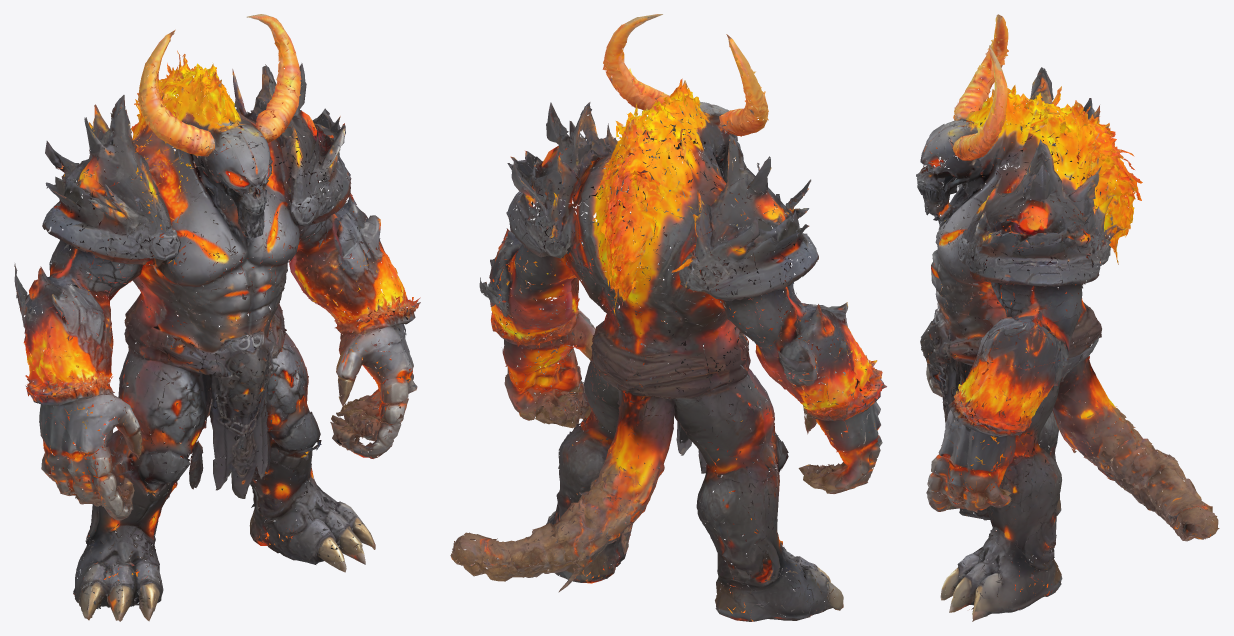
File: monstre_lave_jeu.glb
3 views of the same model, side by side, from view 1: azimuth 30°, elevation 25°; view 2: azimuth 150°, elevation 25°; view 3: azimuth 270°, elevation 25° (orthographic). The views are drawn at different scales.
Visible parts, largest first — view 1: Object_32, Object_31, Object_33, Object_34; view 2: Object_31, Object_32, Object_33, Object_34; view 3: Object_31, Object_33, Object_32, Object_34.
Part boxes in pixels (x1,y1,x2,y2): Object_32: (23,14,416,621); Object_31: (14,63,419,618); Object_33: (14,18,417,621); Object_34: (14,29,420,616); Object_31: (460,76,882,621); Object_32: (450,14,881,621); Object_33: (451,24,886,620); Object_34: (453,33,882,615); Object_31: (916,77,1205,613); Object_33: (917,14,1212,619); Object_32: (922,36,1218,599); Object_34: (916,15,1219,621).
Size of the model in its own units: 1.36 by 1.88 by 0.9895.
1 material, 1 textured.
